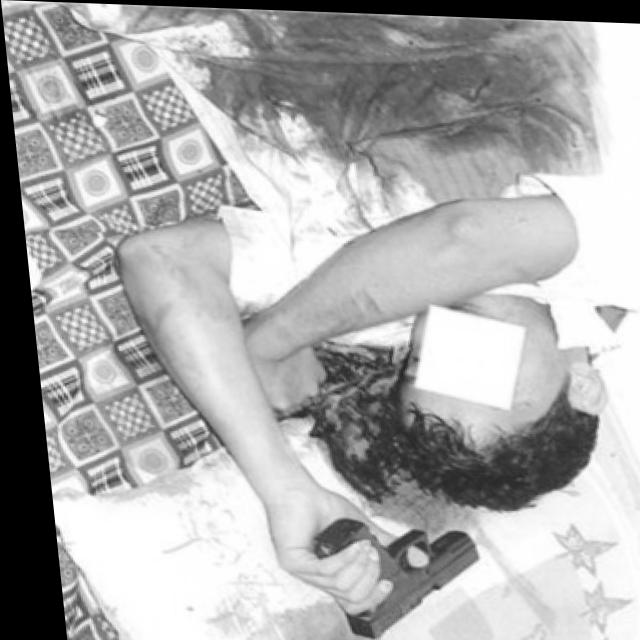handgun: (297, 516, 480, 640)
